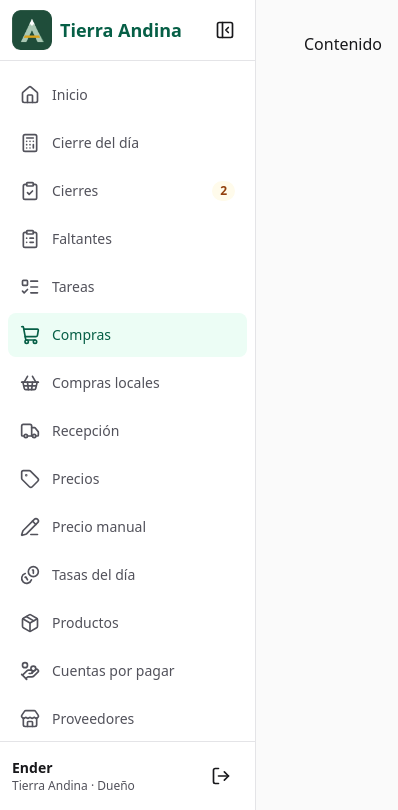
Test: AppShell › the owner sees how many closes wait for review, also with the menu collapsed
The width and height of the screenshot is (398, 810).
Click the button named "Contraer menú" at (225, 30), box [203, 8, 247, 52]
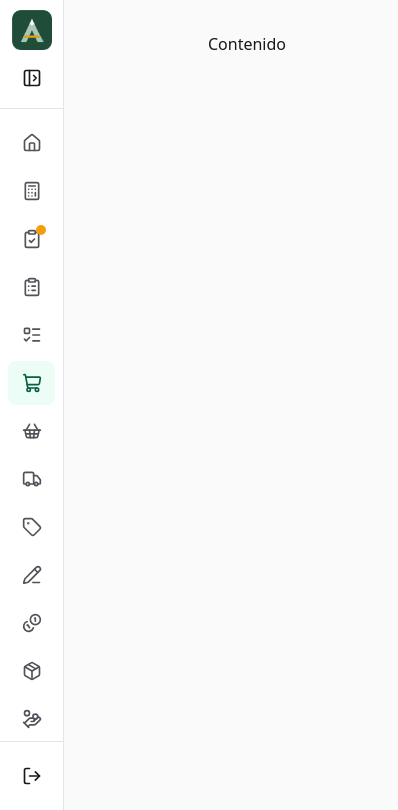
Result: the link named "Cierres, 2 por revisar" is shown at [22, 225, 46, 249]
